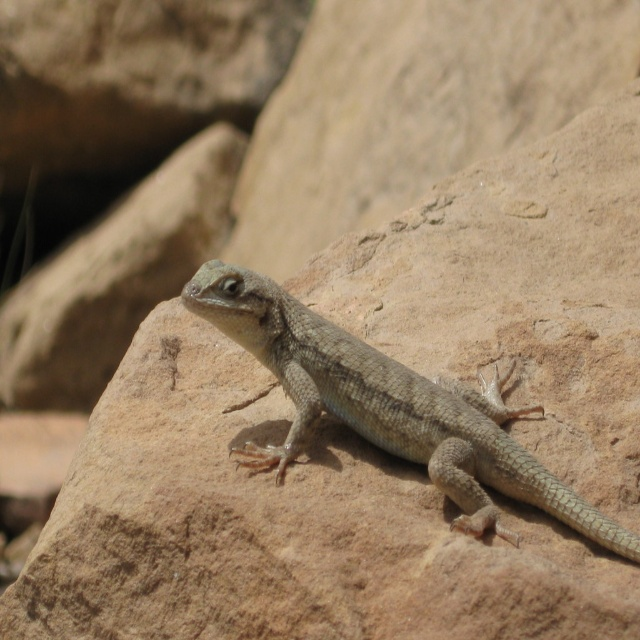Lizard: (161, 254, 640, 580)
